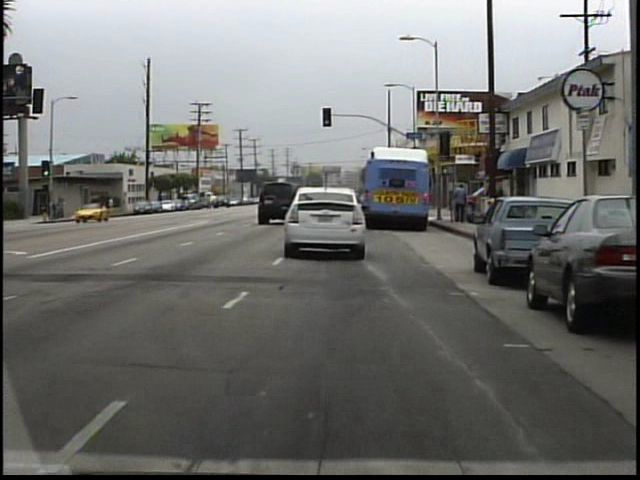person: (449, 182, 469, 226), (106, 192, 120, 217)
